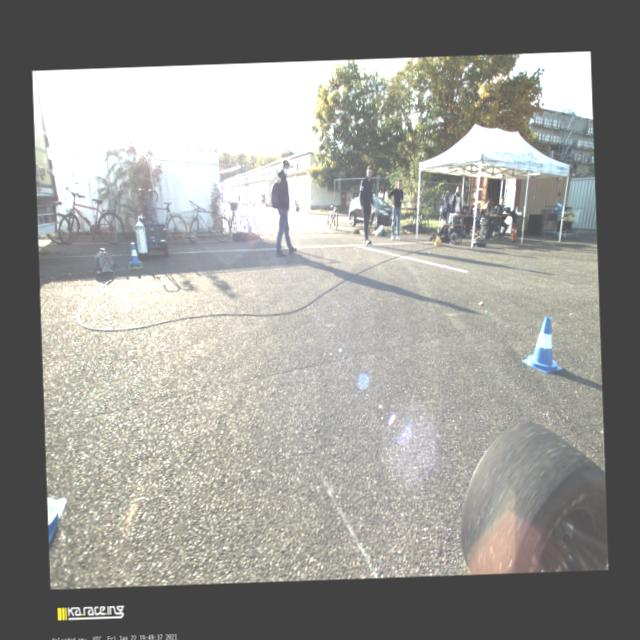blue_cone: (520, 316, 562, 374), (129, 242, 141, 264), (556, 200, 560, 210), (558, 200, 562, 210)
yellow_cone: (434, 229, 441, 244)
